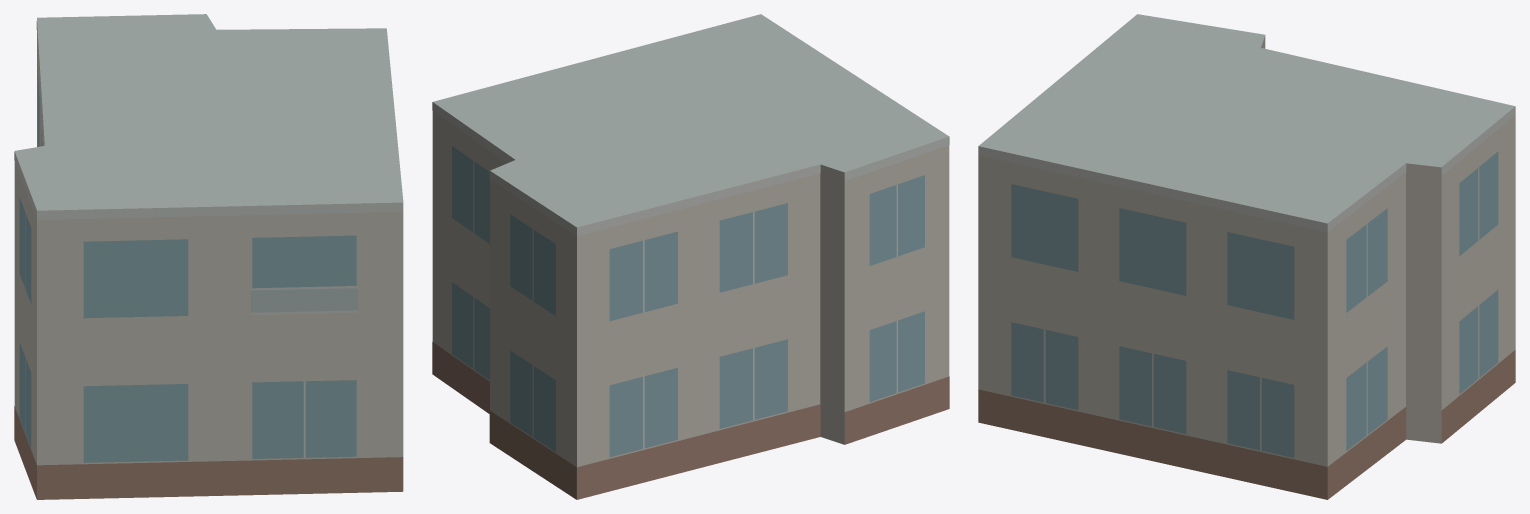
File: survey-upis-32599294.glb
3 views of the same model, side by side, from view 1: azimuth 30°, elevation 25°; view 2: azimuth 150°, elevation 25°; view 3: azimuth 270°, elevation 25° (orthographic). The views are drawn at different scales.
Parts seen in each view (by area): view 1: survey-upis-32599294.tmp; view 2: survey-upis-32599294.tmp; view 3: survey-upis-32599294.tmp.
Part boxes in pixels (<box>): survey-upis-32599294.tmp: <box>14,14,403,499</box>; survey-upis-32599294.tmp: <box>432,14,949,499</box>; survey-upis-32599294.tmp: <box>978,14,1515,499</box>.
Size of the model in its own units: 12.37 by 7.6 by 13.4.
